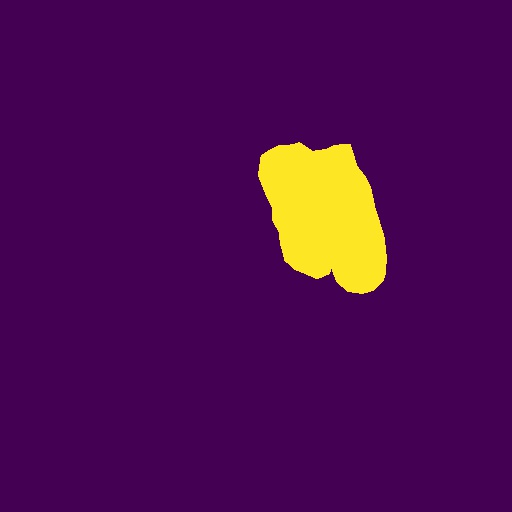Gliomia_tumour: (258, 142, 387, 294)
